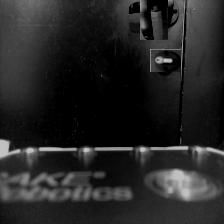Door Handle: (134, 0, 174, 34)
Lock: (152, 47, 179, 74)
